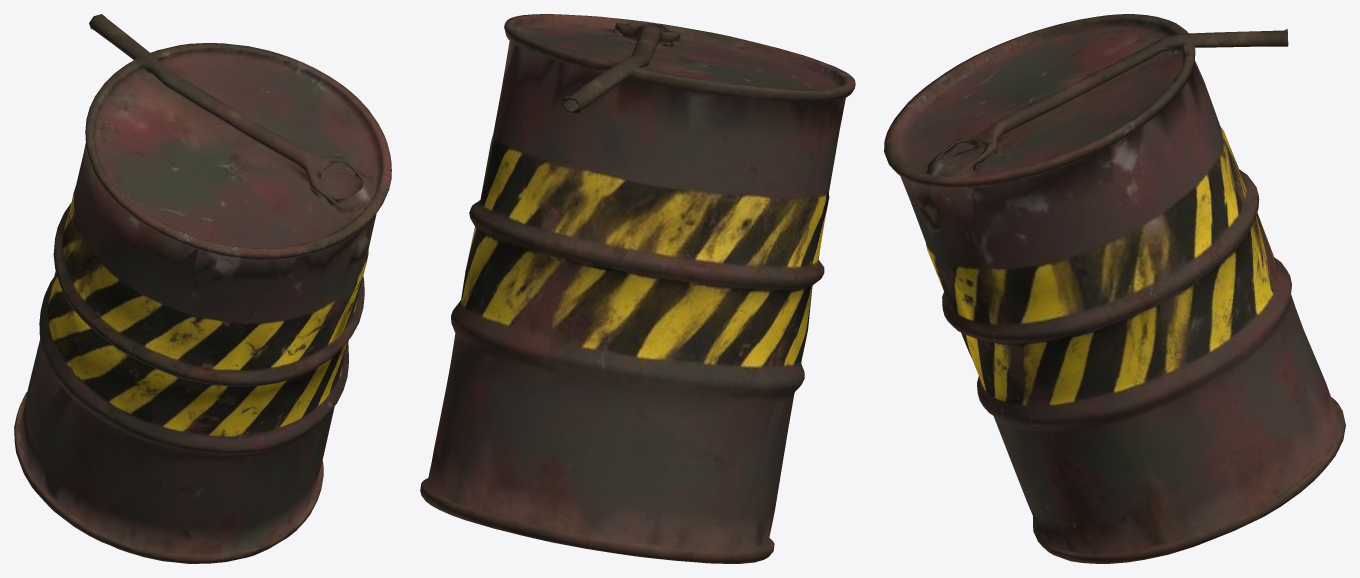
Rendered from drum.glb.
3 renders of one model, left to right at view 1: azimuth 30°, elevation 25°; view 2: azimuth 150°, elevation 25°; view 3: azimuth 270°, elevation 25°, orthographic. The views are drawn at different scales.
Parts seen in each view (by area): view 1: RETOPO; view 2: RETOPO; view 3: RETOPO.
Part boxes in pixels (box(x1,y1,x2,y2)): RETOPO: box(14, 14, 391, 563); RETOPO: box(420, 14, 855, 563); RETOPO: box(884, 14, 1345, 563).
Size of the model in its own units: 0.5688 by 0.9147 by 0.7837.
Materials: 1 (1 with a texture image).
